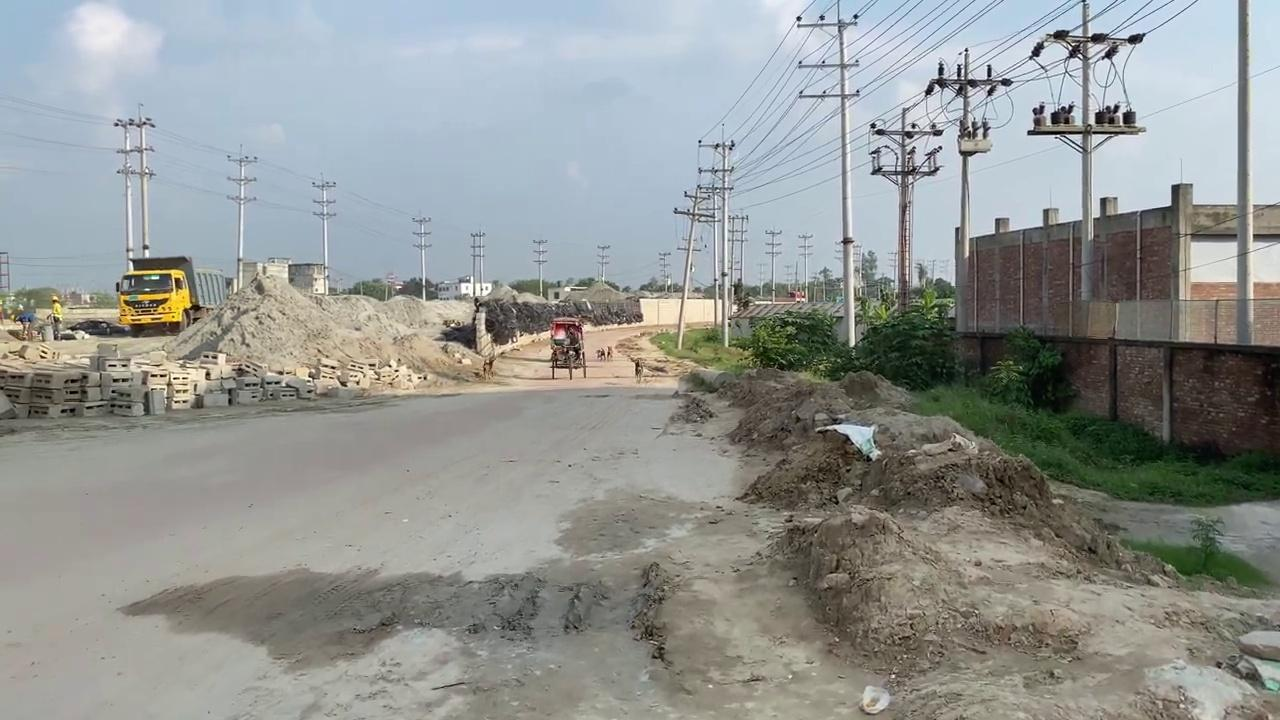Dog: (480, 356, 494, 381), (631, 358, 644, 384), (595, 347, 604, 360)
Garbage: (814, 421, 881, 461)
Muddy road: (705, 324, 1277, 713)
Pole: (836, 15, 857, 348), (1234, 0, 1254, 343)
Tree: (113, 102, 203, 336), (115, 254, 229, 336), (549, 315, 586, 379)
